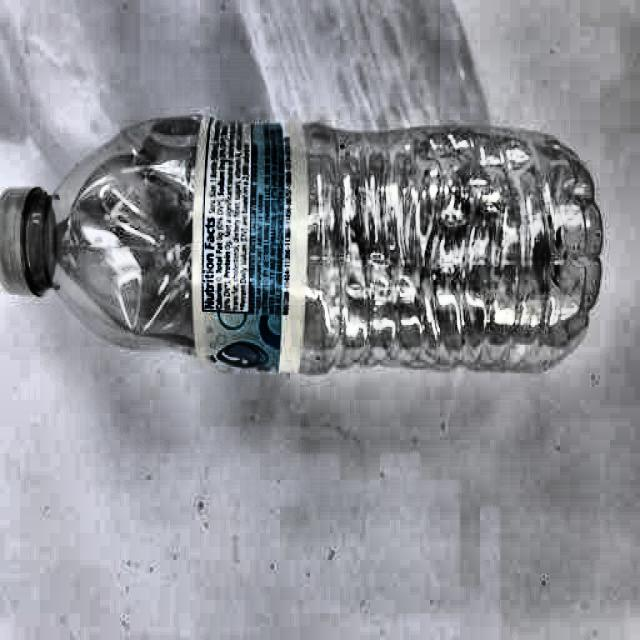plastic: (0, 126, 621, 380)
